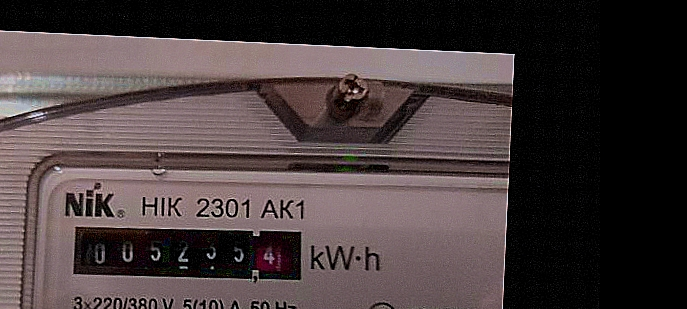0: (91, 239, 107, 265), (119, 238, 135, 263)
2: (174, 237, 191, 264)
3: (201, 235, 219, 261)
4: (259, 238, 278, 268)
5: (229, 235, 246, 264), (147, 237, 162, 262)
screen: (59, 210, 312, 293)
